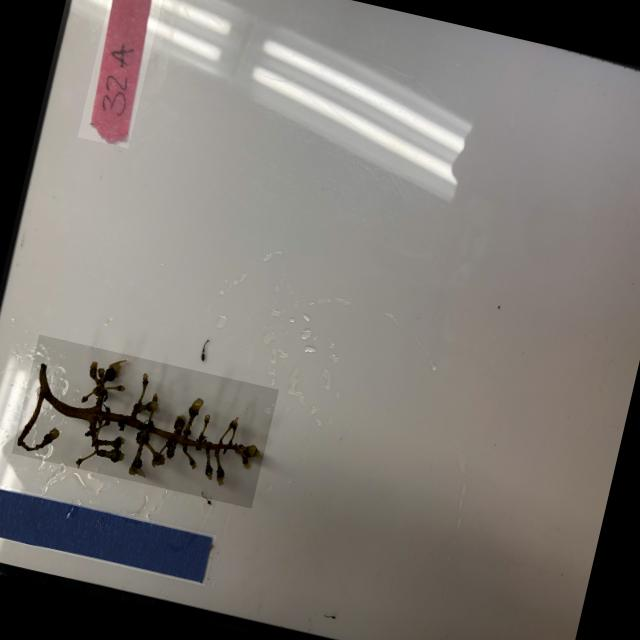index: (77, 0, 164, 147)
measure_label: (0, 479, 216, 585)
rachis_cluster: (12, 333, 278, 507)
